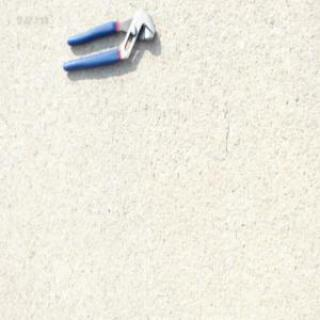Pliertrack_idkeyframe: (62, 7, 156, 73)
